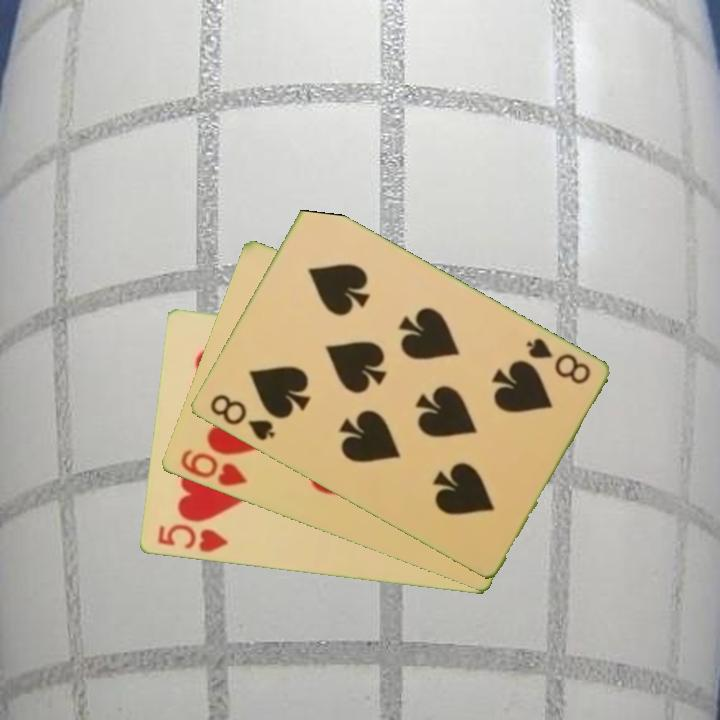5h: (153, 521, 230, 556)
6h: (176, 445, 249, 490)
8s: (521, 334, 594, 388), (206, 390, 278, 444)
